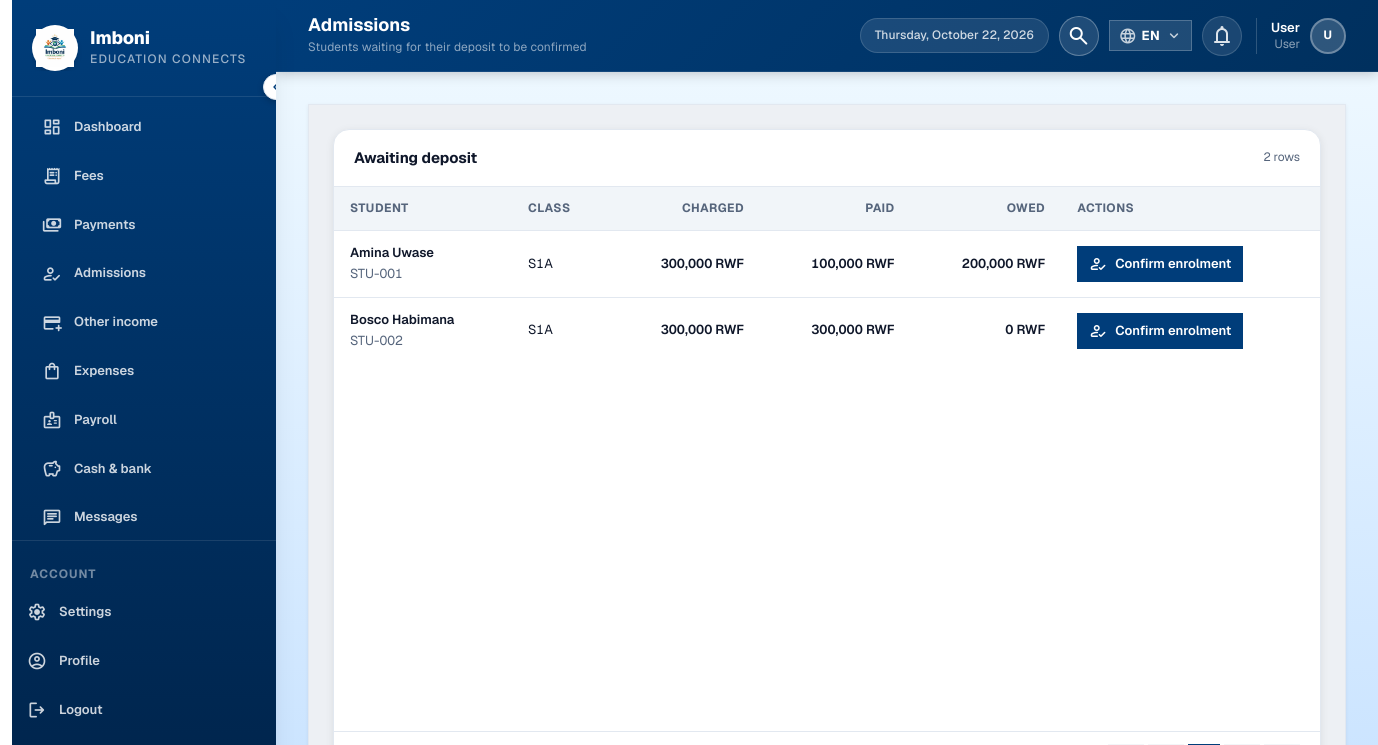
FinanceAdmissions › says plainly when no class matched, so the DOS knows to place them
This screenshot has width=1378, height=745.
Expected: the text "Amina Uwase" is shown, 350,244 -> 434,261
Click the button "Confirm enrolment" in the row of "Amina Uwase" at (1160, 264), box 1077,246 -> 1243,282
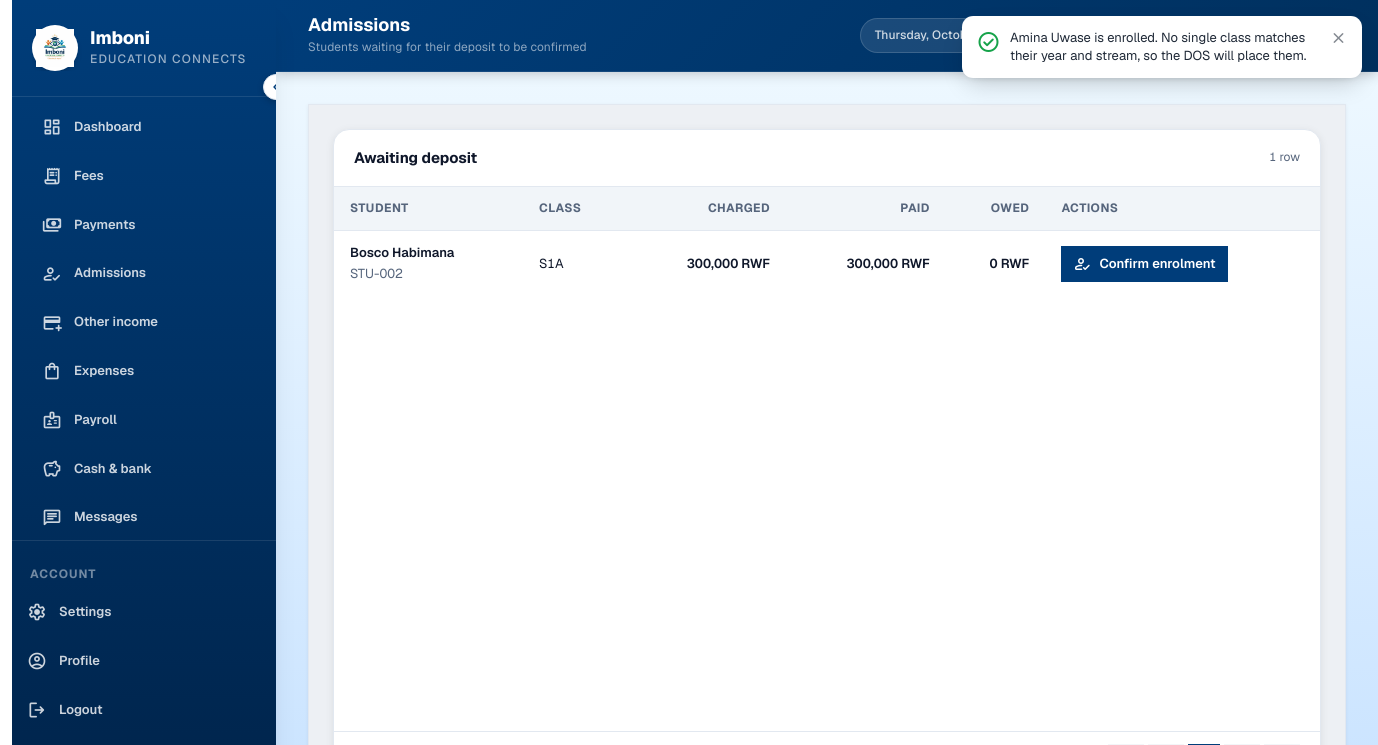
Now the text "No single class matches their year and stream" is shown, box 1010,29 -> 1306,64
